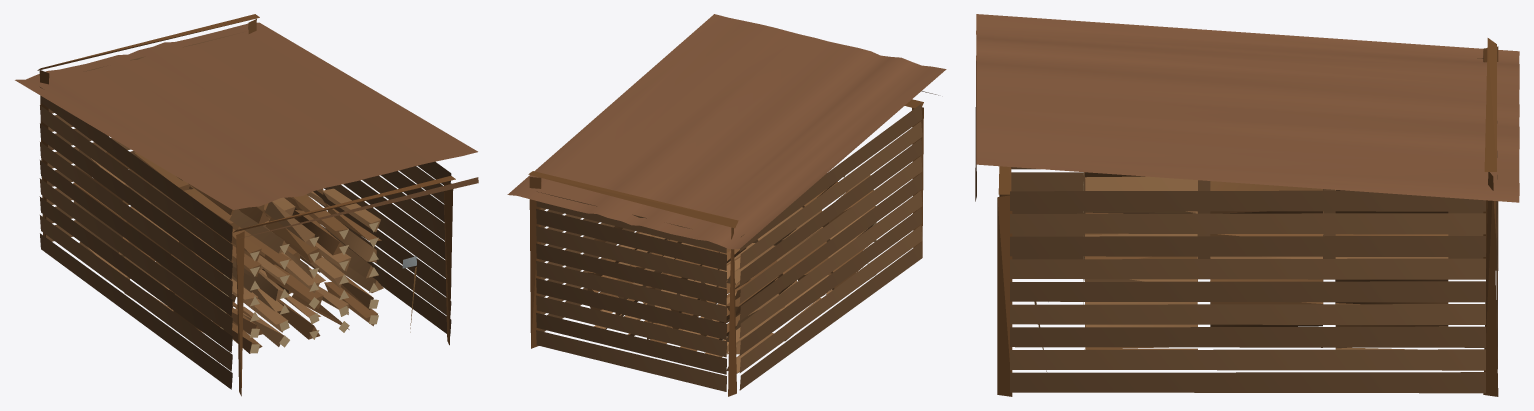
The model's file is kho_cui.glb.
3 views of the same model, side by side, from view 1: azimuth 30°, elevation 25°; view 2: azimuth 150°, elevation 25°; view 3: azimuth 270°, elevation 25° (orthographic). The views are drawn at different scales.
Visible parts, largest first — view 1: kho_cui; view 2: kho_cui; view 3: kho_cui.
Boxes of the visible parts, x1,y1,x2,y2 form: kho_cui: [15, 14, 478, 396]; kho_cui: [507, 14, 946, 396]; kho_cui: [975, 14, 1519, 396].
Size of the model in its own units: 2.81 by 2.16 by 4.35.
